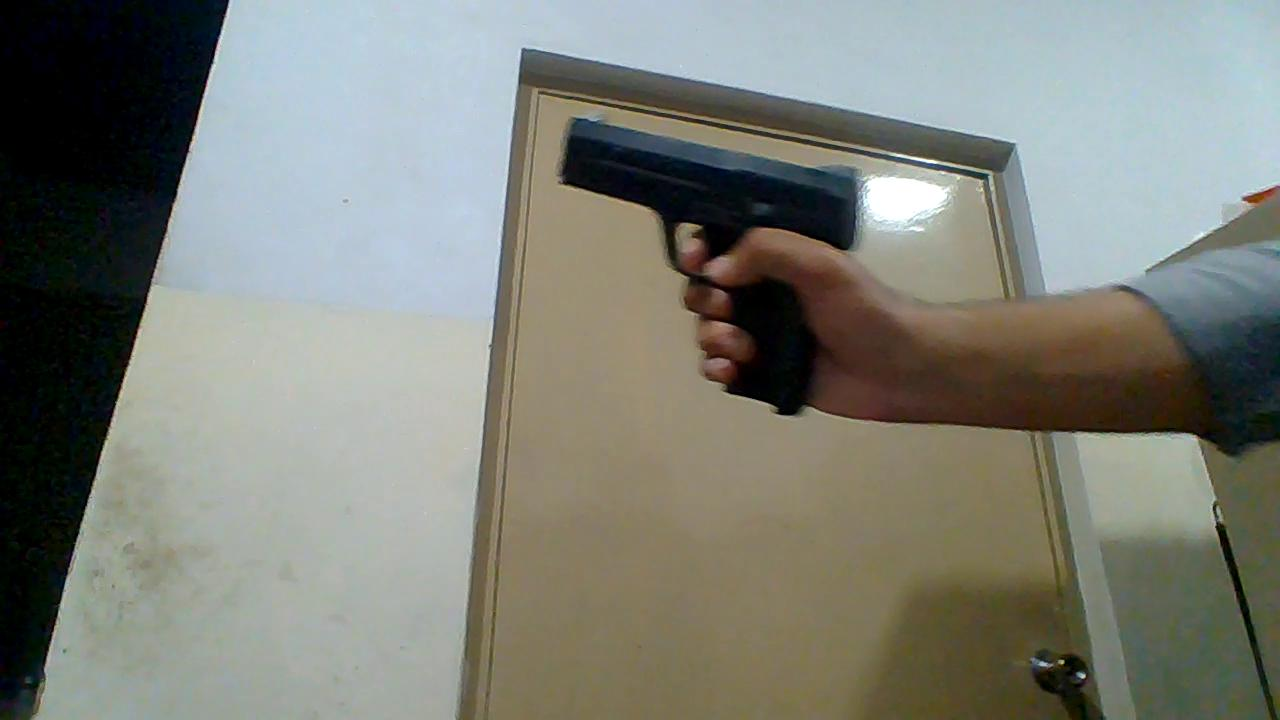weapon: (553, 114, 862, 421)
